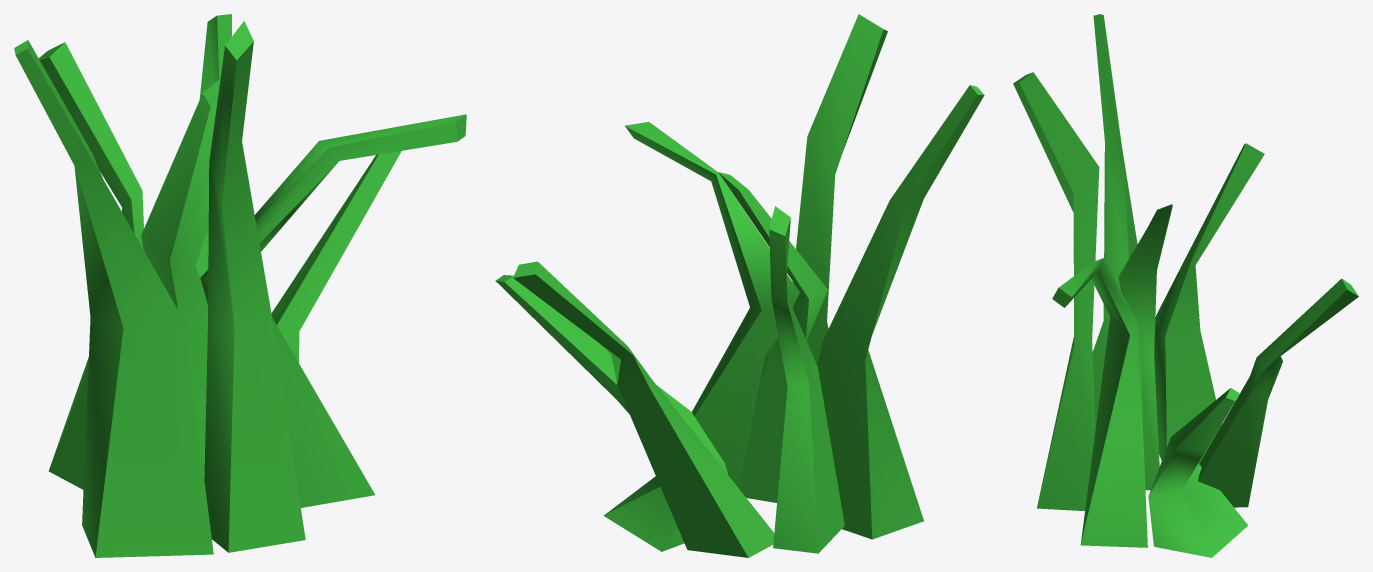
File: grass.fbx
3 renders of one model, left to right at view 1: azimuth 30°, elevation 25°; view 2: azimuth 150°, elevation 25°; view 3: azimuth 270°, elevation 25°, orthographic. The views are drawn at different scales.
Visible parts, largest first — view 1: pCube13, pCube14, pCube9, pCube8, pCube12, pCube11, pCube10; view 2: pCube13, pCube10, pCube12, pCube9, pCube14, pCube8, pCube11; view 3: pCube14, pCube9, pCube12, pCube11, pCube10, pCube13, pCube8.
Part boxes in pixels (box(x1,y1,x2,y2)): pCube13: box(14, 40, 213, 557); pCube14: box(204, 21, 305, 552); pCube9: box(200, 114, 466, 507); pCube8: box(141, 78, 220, 478); pCube12: box(39, 42, 143, 489); pCube11: box(271, 151, 401, 362); pCube10: box(187, 14, 231, 277); pCube13: box(817, 85, 984, 539); pCube10: box(513, 261, 774, 557); pCube12: box(769, 206, 844, 553); pCube9: box(625, 122, 799, 486); pCube14: box(792, 14, 887, 365); pCube8: box(718, 172, 827, 502); pCube11: box(495, 275, 727, 551); pCube14: box(1013, 72, 1099, 510); pCube9: box(1052, 258, 1147, 547); pCube12: box(1154, 143, 1264, 463); pCube11: box(1148, 388, 1248, 557); pCube10: box(1198, 278, 1358, 507); pCube13: box(1092, 14, 1137, 427); pCube8: box(1118, 204, 1172, 490).
Bounding box in the file's own units: 4.36 × 4.74 × 3.54.
